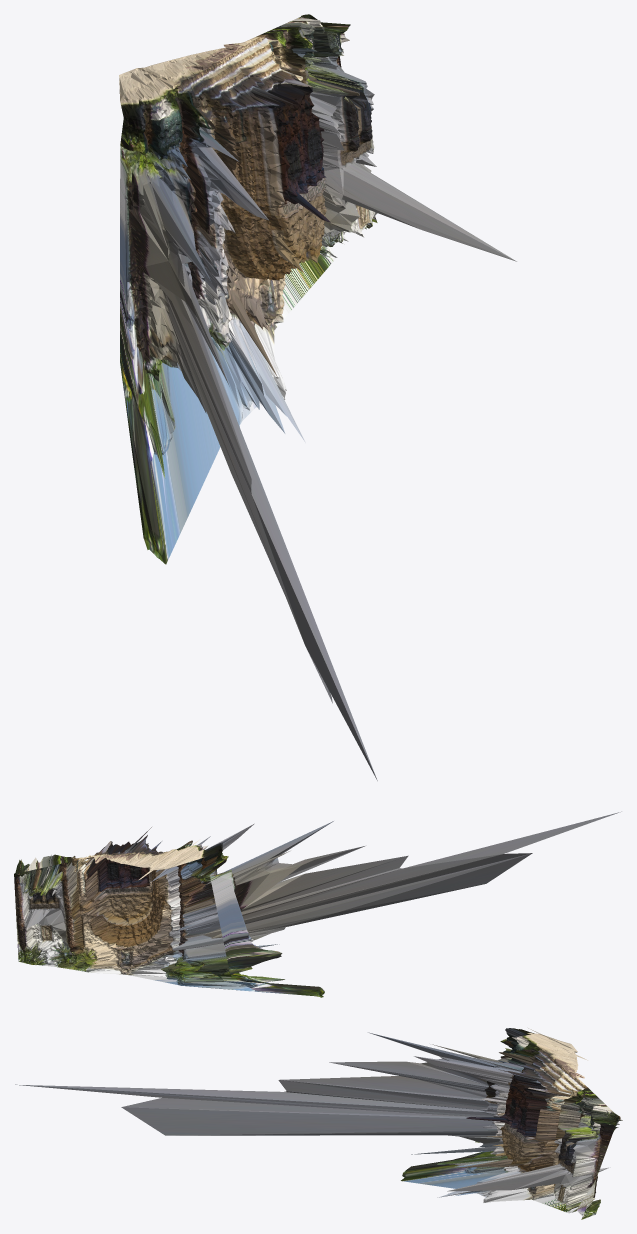
The model's file is church.obj.
3 renders of one model, top to bottom at view 1: azimuth 30°, elevation 25°; view 2: azimuth 150°, elevation 25°; view 3: azimuth 270°, elevation 25°, orthographic. The views are drawn at different scales.
Bounding box in the file's own units: 38.75 × 23.44 × 71.56.
Materials: 1 (1 with a texture image).
